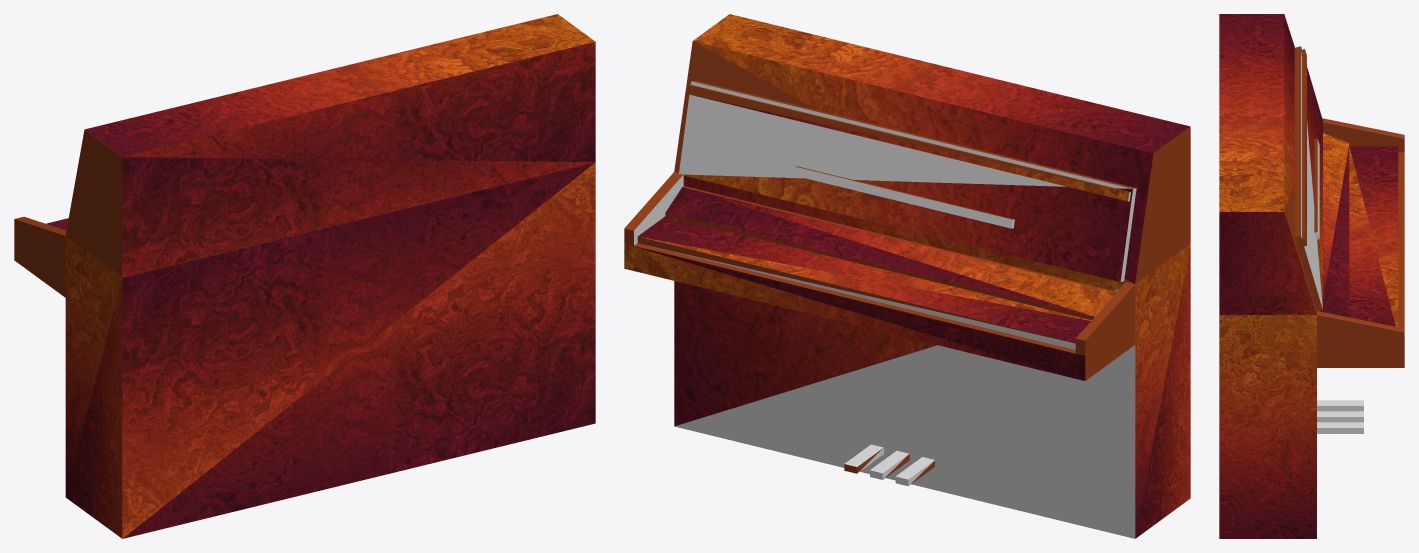
Rendered from smallpiano.glb.
3 views of the same model, side by side, from view 1: azimuth 30°, elevation 25°; view 2: azimuth 150°, elevation 25°; view 3: azimuth 270°, elevation 25° (orthographic). The views are drawn at different scales.
Parts seen in each view (by area): view 1: pianoDroit; view 2: pianoDroit; view 3: pianoDroit.
Boxes of the visible parts, x1,y1,x2,y2 form: pianoDroit: [14, 14, 595, 538]; pianoDroit: [624, 14, 1190, 538]; pianoDroit: [1219, 14, 1404, 538].
Size of the model in its own units: 2.88 by 2.22 by 1.14.
Materials: 4 (1 with a texture image).
